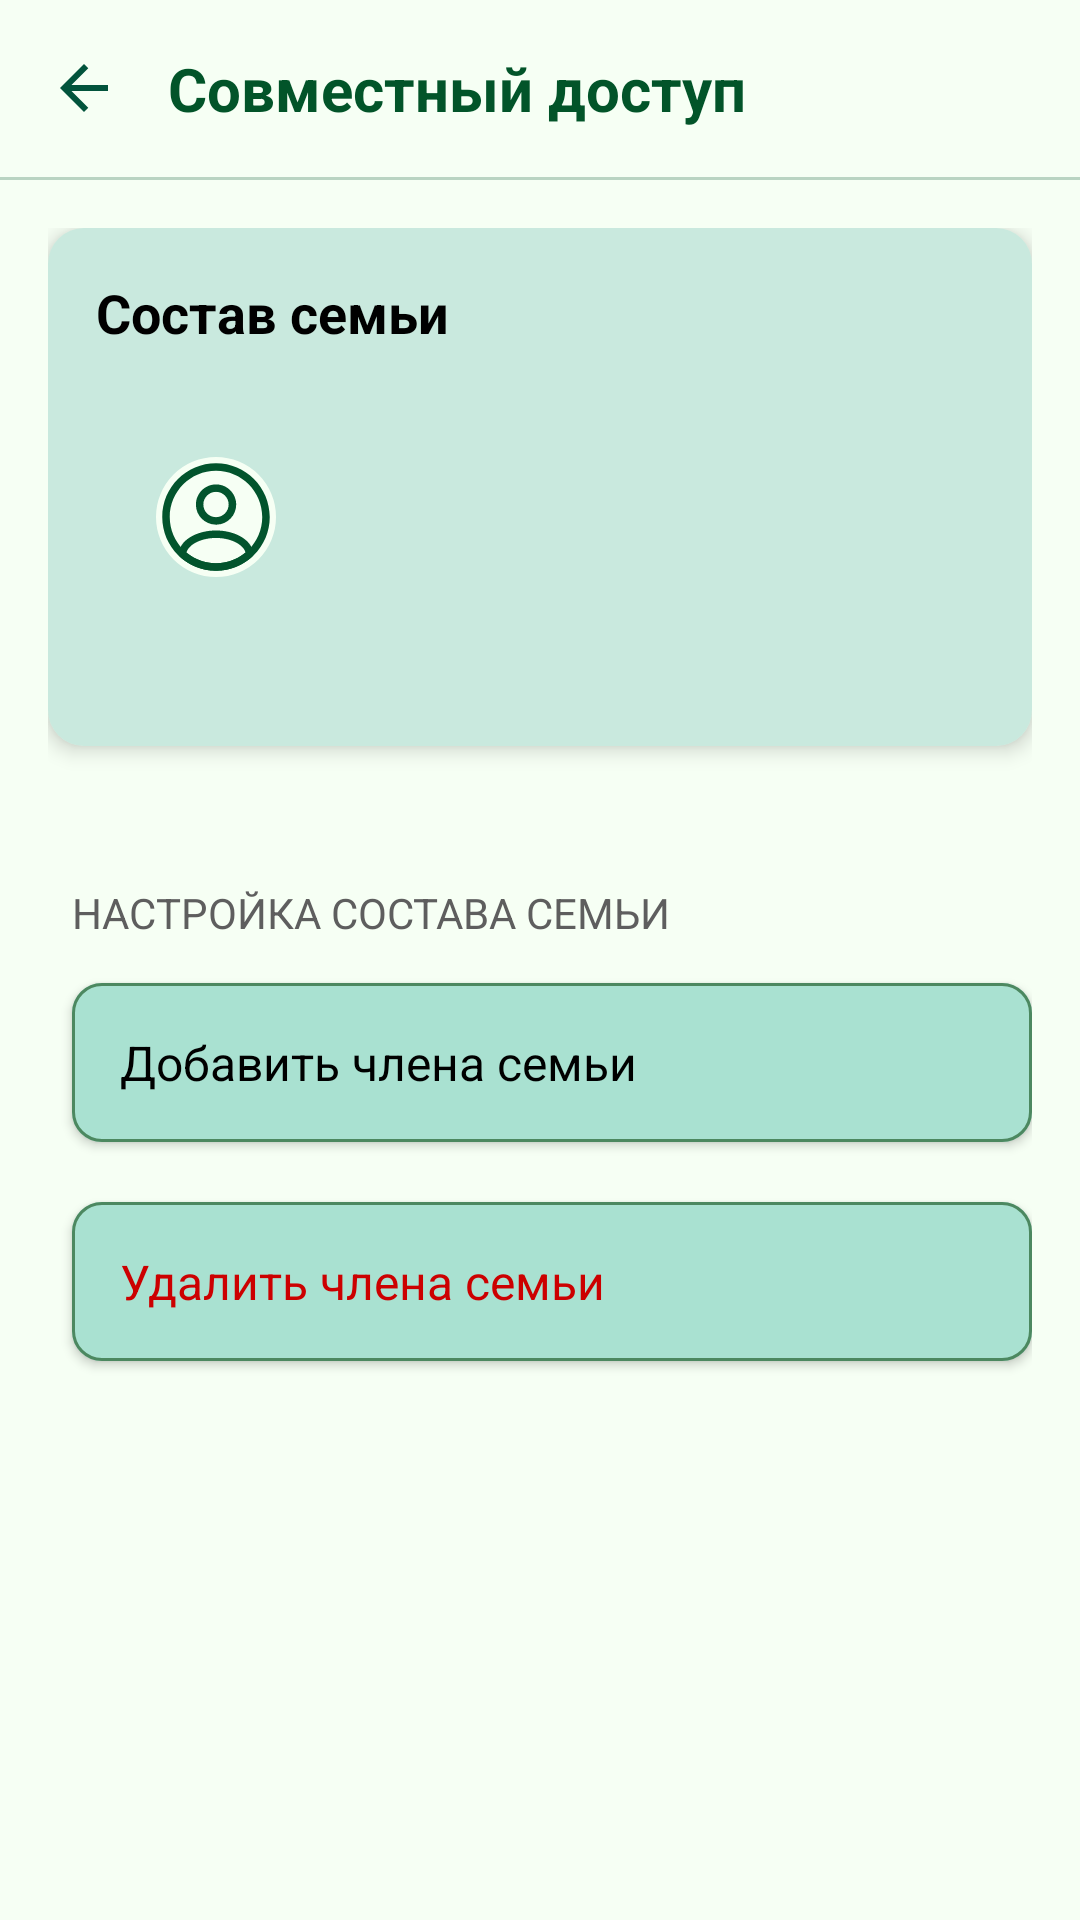

Locate icon controls on the screen. Image size 1080px x 1920px, boxes as (x1,y1,x2,y2).
back: (60,64,108,112)
profile: (156,457,276,577)
